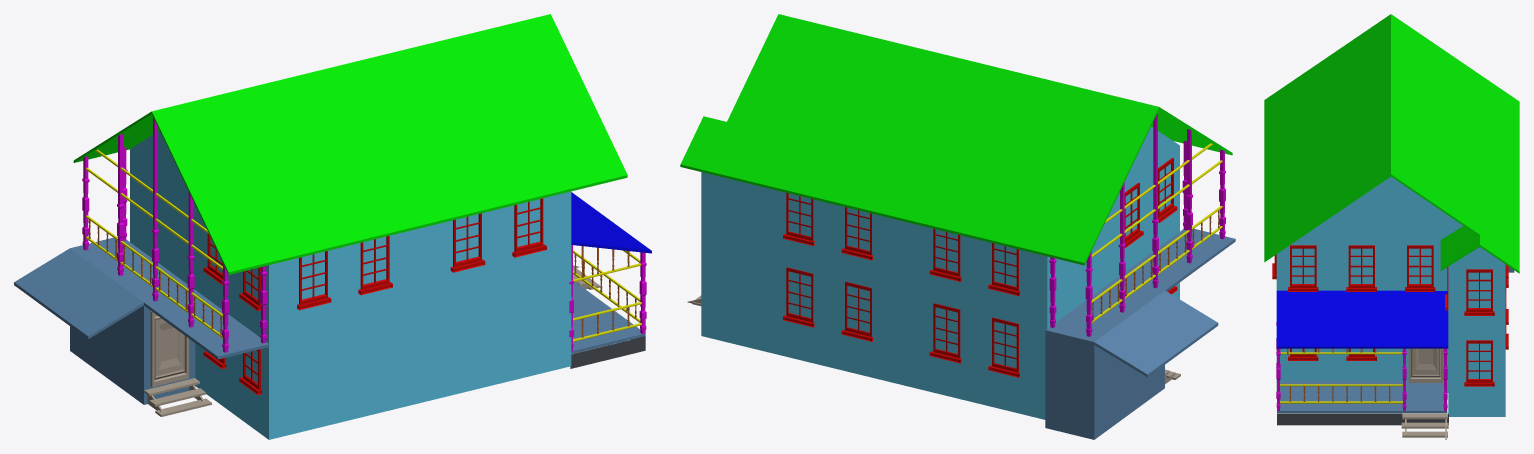
File: Ass_House_JC_001.fbx
The picture shows the model from 3 angles, left to right: view 1: azimuth 30°, elevation 25°; view 2: azimuth 150°, elevation 25°; view 3: azimuth 270°, elevation 25°; orthographic projection. The views are drawn at different scales.
Visible parts, largest first — view 1: roof_UV_Mapped, MainBody_UV_Mapped, RearAwning_UV_Mapped, PorchFront_UV_Mapped, AwningFront_UV_Mappped, BackDoor_UV_Mapped1, window_window_pCube12 (×2), window_window_pCube11 (×2), RearStairs_UV_Mapped, PorchStone_Front_UV_Mapped, PorchFront_Beam8, PorchFront_Beam7 (+1 smaller); view 2: roof_UV_Mapped, MainBody_UV_Mapped, RearAwning_UV_Mapped, PorchFront_Beam8, window_window_pCube24, window_window_pCube22, window_window_pCube21, window_window_pCube23, window_window_pCube15, window_window_pCube13, window_window_pCube16, PorchFront_Beam6 (+4 smaller); view 3: roof_UV_Mapped, MainBody_UV_Mapped, AwningFront_UV_Mappped, PorchFront_UV_Mapped, PorchStone_Front_UV_Mapped, FrontDoor_UV_Mapped, window_window_pCube5, window_window_pCube6, window_window_pCube7, window_window_pCube3, window_window_pCube4, PorchFront_Fence_Top1 (+5 smaller).
Boxes of the visible parts, box(x1,y1,x2,y2) form: roof_UV_Mapped: box(73, 14, 627, 274); MainBody_UV_Mapped: box(130, 131, 571, 439); RearAwning_UV_Mapped: box(14, 236, 269, 404); PorchFront_UV_Mapped: box(571, 282, 645, 354); AwningFront_UV_Mappped: box(571, 192, 651, 253); BackDoor_UV_Mapped1: box(150, 311, 188, 387); window_window_pCube12 (×2): box(358, 198, 546, 295); window_window_pCube11 (×2): box(297, 213, 485, 310); RearStairs_UV_Mapped: box(144, 378, 211, 416); PorchStone_Front_UV_Mapped: box(570, 336, 645, 368); PorchFront_Beam8: box(152, 117, 159, 301); PorchFront_Beam7: box(117, 134, 124, 275); roof_UV_Mapped: box(680, 14, 1232, 265); MainBody_UV_Mapped: box(701, 126, 1179, 419); RearAwning_UV_Mapped: box(1045, 229, 1235, 439); PorchFront_Beam8: box(1152, 112, 1158, 288); window_window_pCube24: box(783, 267, 814, 327); window_window_pCube22: box(929, 303, 961, 363); window_window_pCube21: box(988, 317, 1020, 377); window_window_pCube23: box(841, 281, 873, 341); window_window_pCube15: box(929, 228, 961, 281); window_window_pCube13: box(783, 193, 814, 245); window_window_pCube16: box(988, 243, 1020, 296); PorchFront_Beam6: box(1186, 129, 1192, 263); roof_UV_Mapped: box(1264, 14, 1519, 273); MainBody_UV_Mapped: box(1276, 176, 1505, 416); AwningFront_UV_Mappped: box(1276, 290, 1448, 348); PorchFront_UV_Mapped: box(1277, 381, 1447, 413); PorchStone_Front_UV_Mapped: box(1277, 413, 1448, 425); FrontDoor_UV_Mapped: box(1408, 348, 1443, 382); window_window_pCube5: box(1405, 245, 1435, 291); window_window_pCube6: box(1346, 245, 1376, 291); window_window_pCube7: box(1288, 245, 1318, 291); window_window_pCube3: box(1464, 269, 1494, 315); window_window_pCube4: box(1464, 340, 1494, 386); PorchFront_Fence_Top1: box(1280, 384, 1402, 386).
Bounding box in the file's own units: 34.04 × 18.17 × 17.47.
